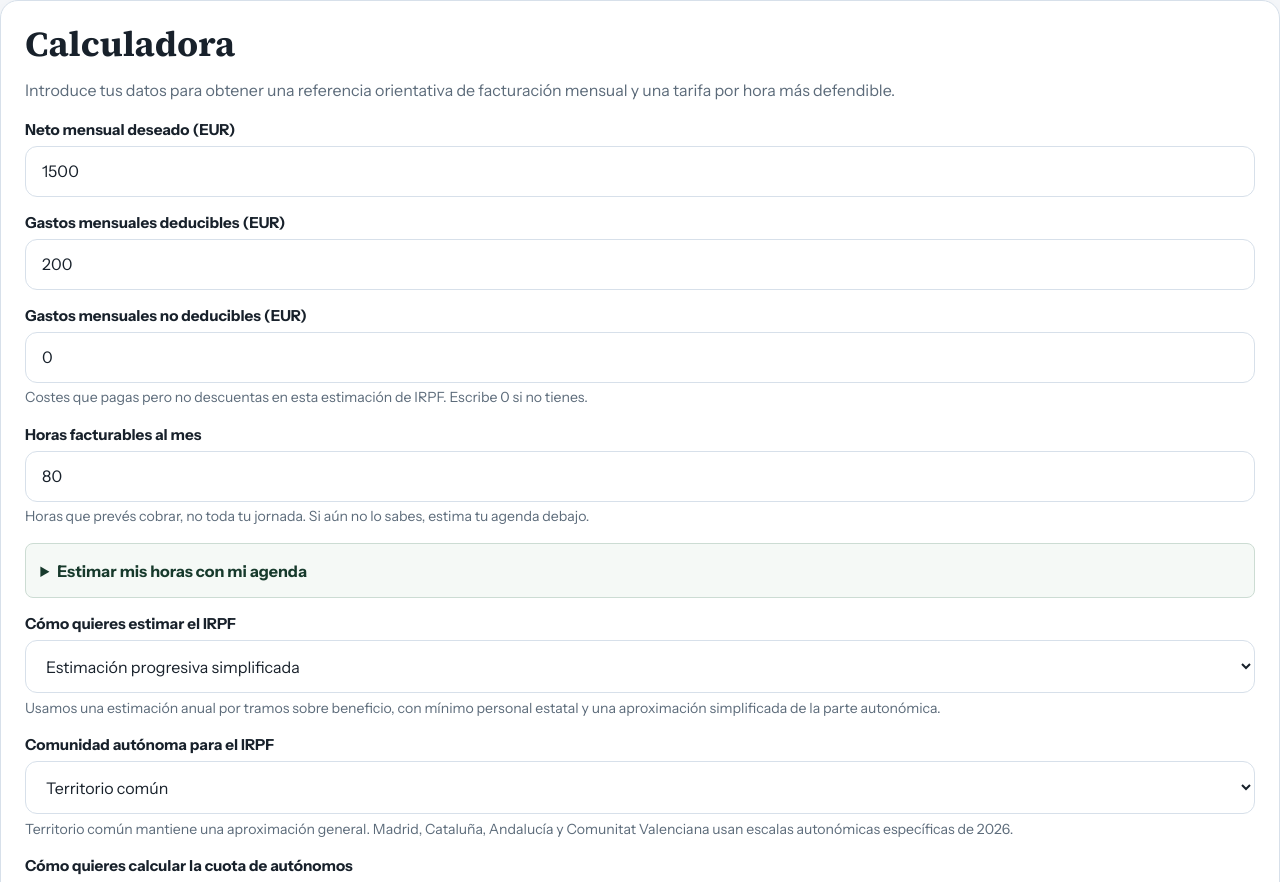
CalculatorForm › keeps pasted fractional hours invalid after blur instead of turning them into thousands
This screenshot has width=1280, height=882.
Click the number field labelled "Horas facturables al mes" at (640, 476), box [25,451,1255,502]
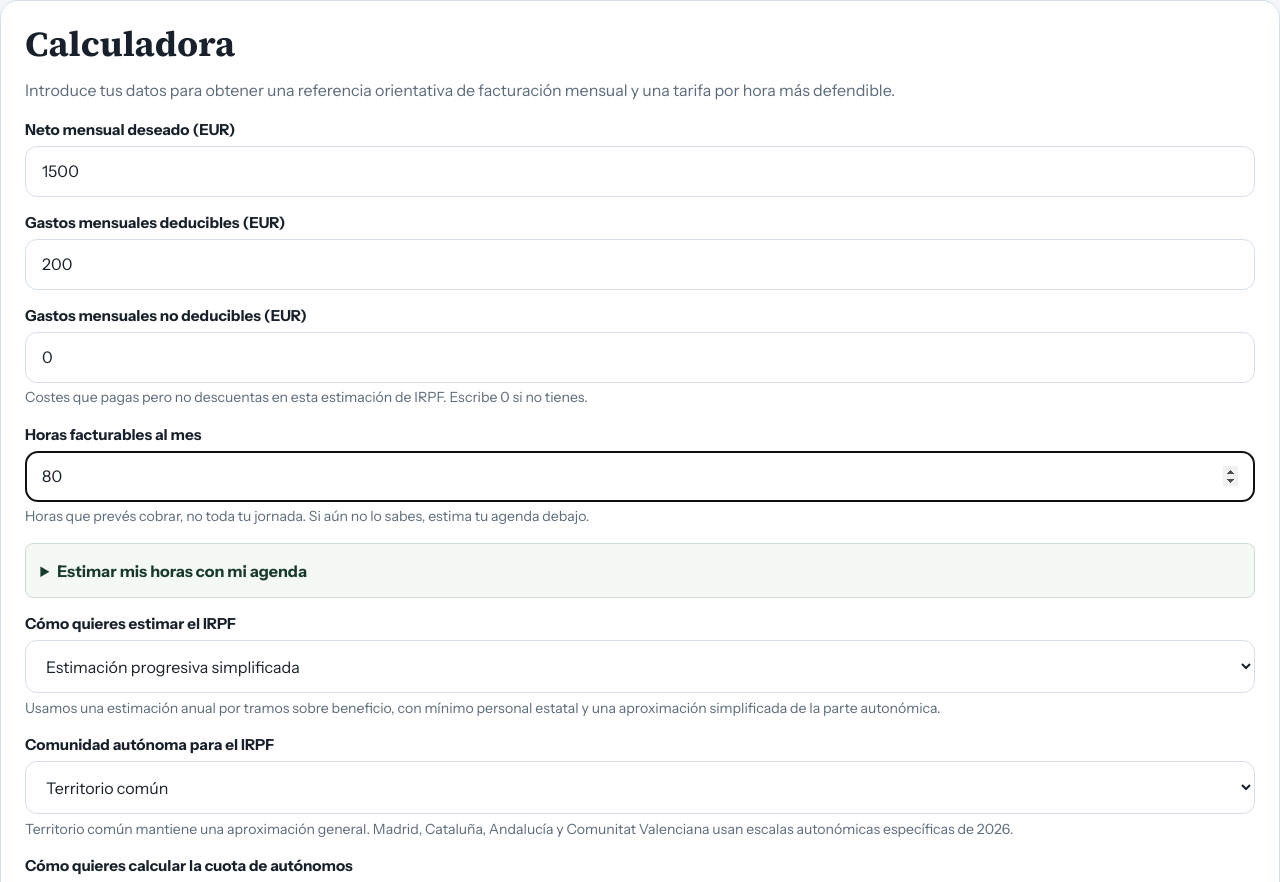
Type keys "80,005"
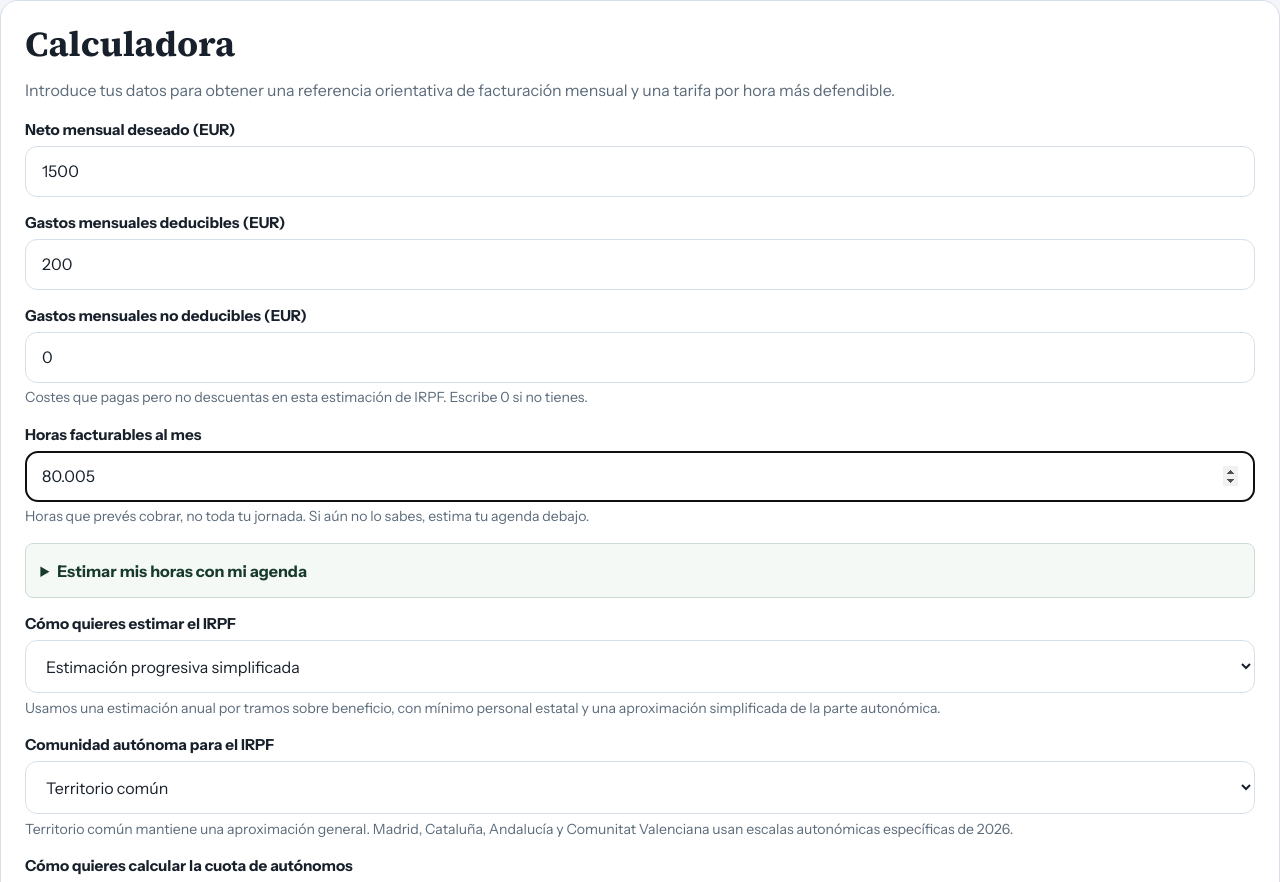
Press Tab
(page scrolled)
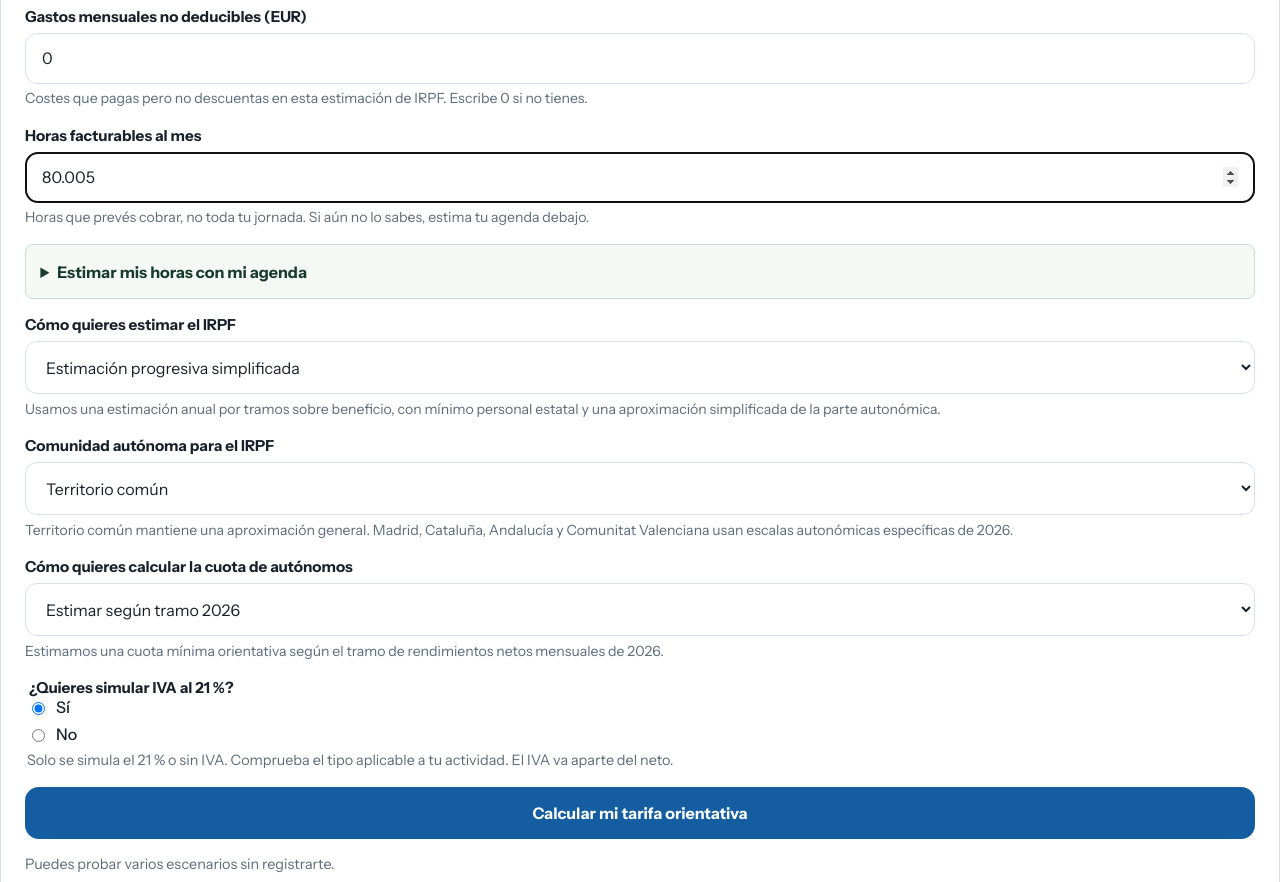
Click the button "Calcular mi tarifa orientativa" at (640, 813), box [25,787,1255,839]
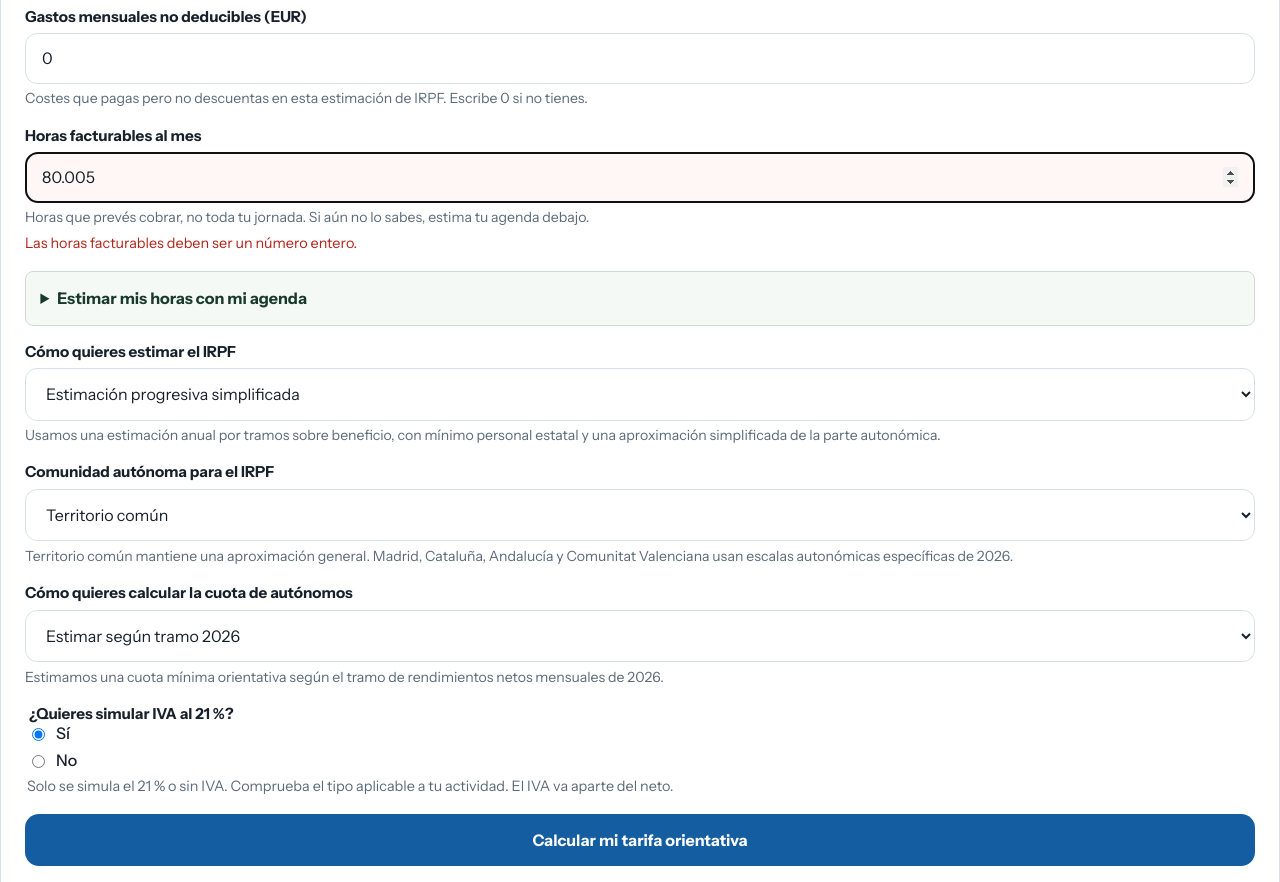
Expected: the number field labelled "Horas facturables al mes" holds "80.005", [25,152,1255,202]
Expected: the text "Las horas facturables deben ser un número entero." is shown, [25,234,357,252]
